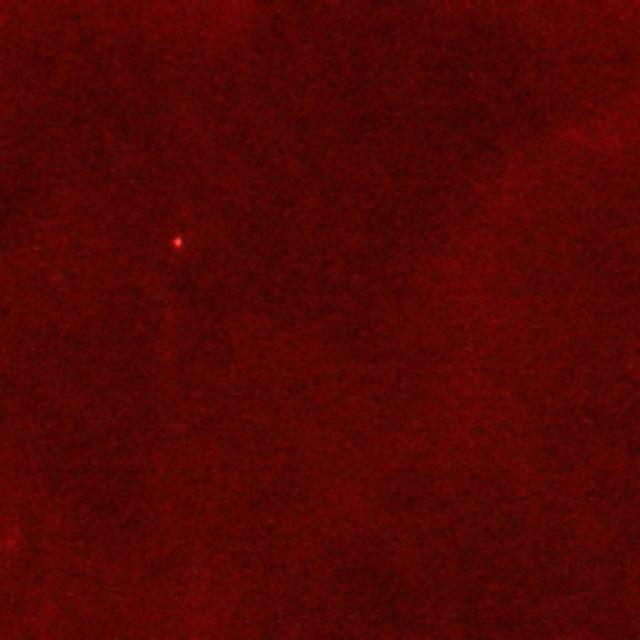Fragment: (170, 235, 186, 255)
